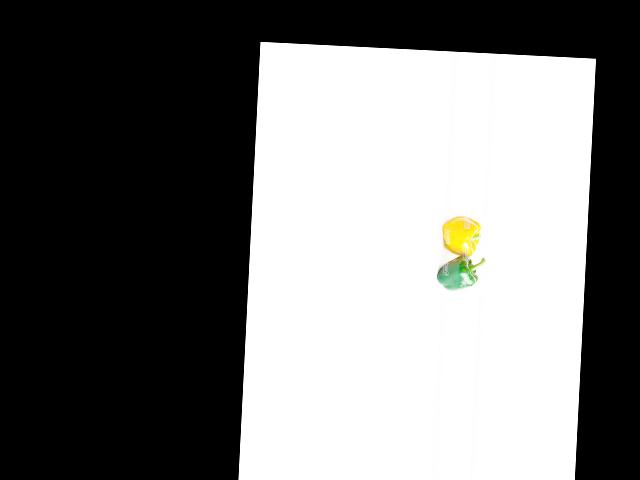bell_pepper: (430, 254, 481, 295)
